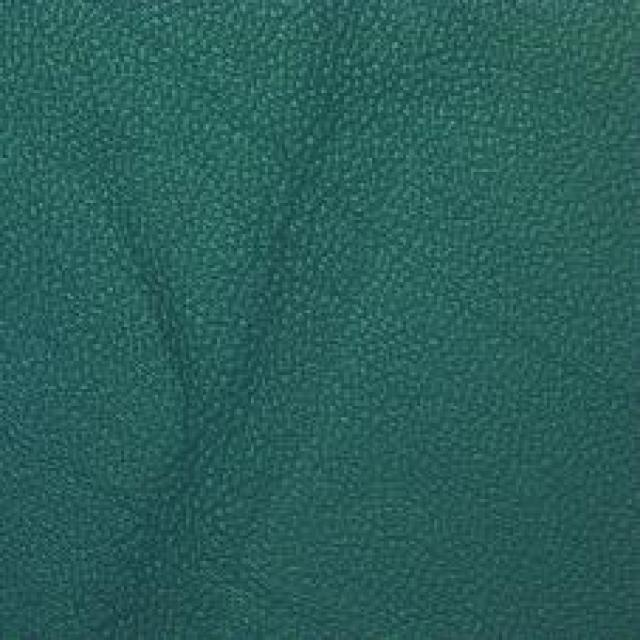Growth Marks: (101, 372, 332, 615), (224, 85, 423, 344)
